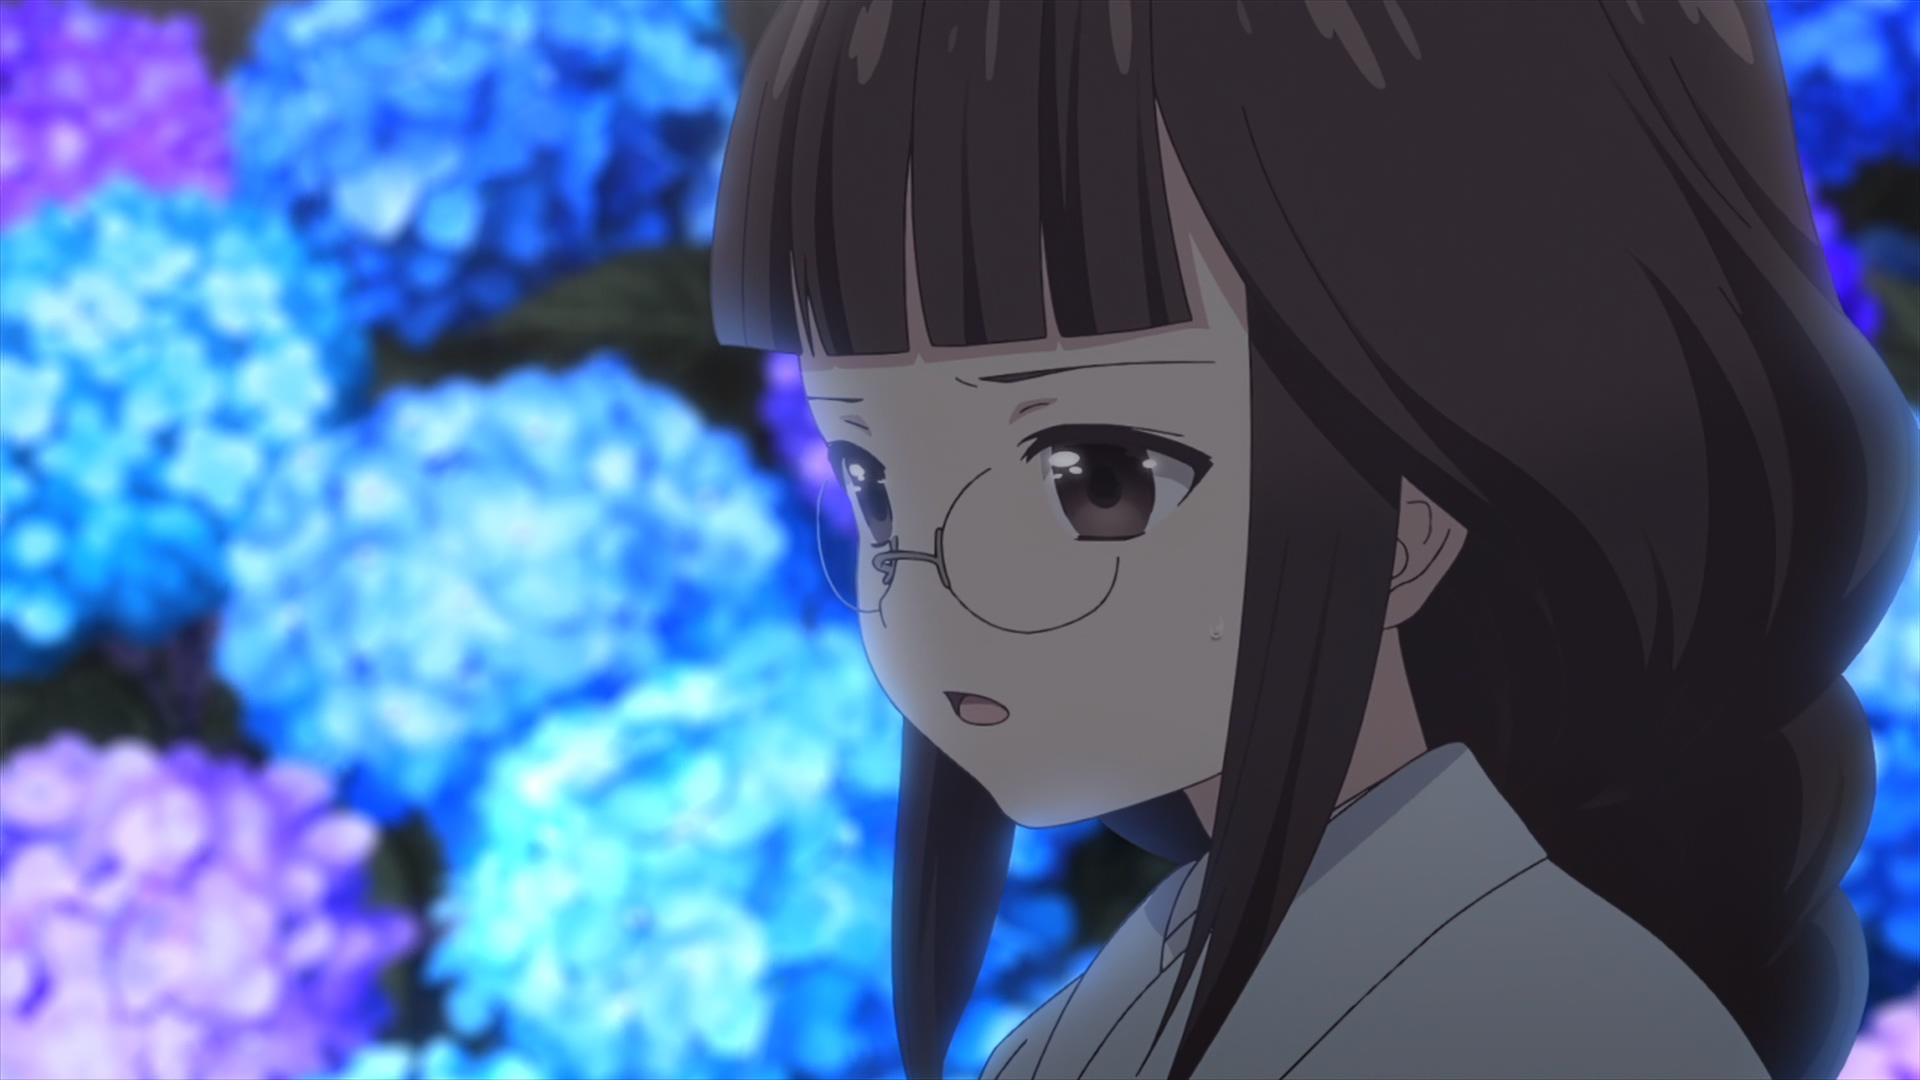其他: (709, 5, 1920, 1080)
